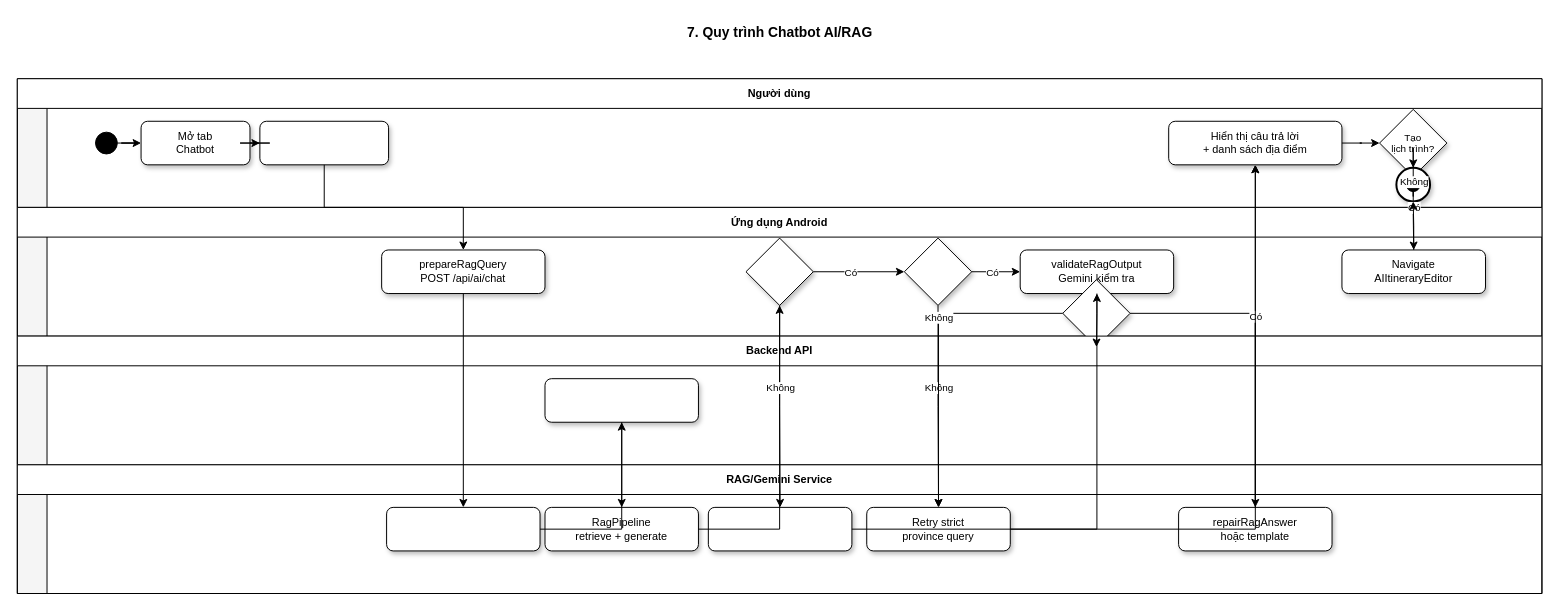
The diagram is 1559 pixels wide and 611 high, and some of its shapes have lost their labels. The centre of each missing label's shape, as x and y in pixels:
"fallbackChat POST /api/ai/chat" belongs at point (780, 530).
"Gemini chuẩn hóa câu hỏi + tỉnh/ngày" belongs at point (464, 530).
"Gửi tin nhắn ChatbotFragment" belongs at point (325, 144).
"Hợp lệ?" belongs at point (1097, 314).
"POST /api/ai/rag-chat proxy RAG" belongs at point (622, 401).
"RAG thành công?" belongs at point (780, 272).
"Đúng tỉnh?" belongs at point (938, 272).
